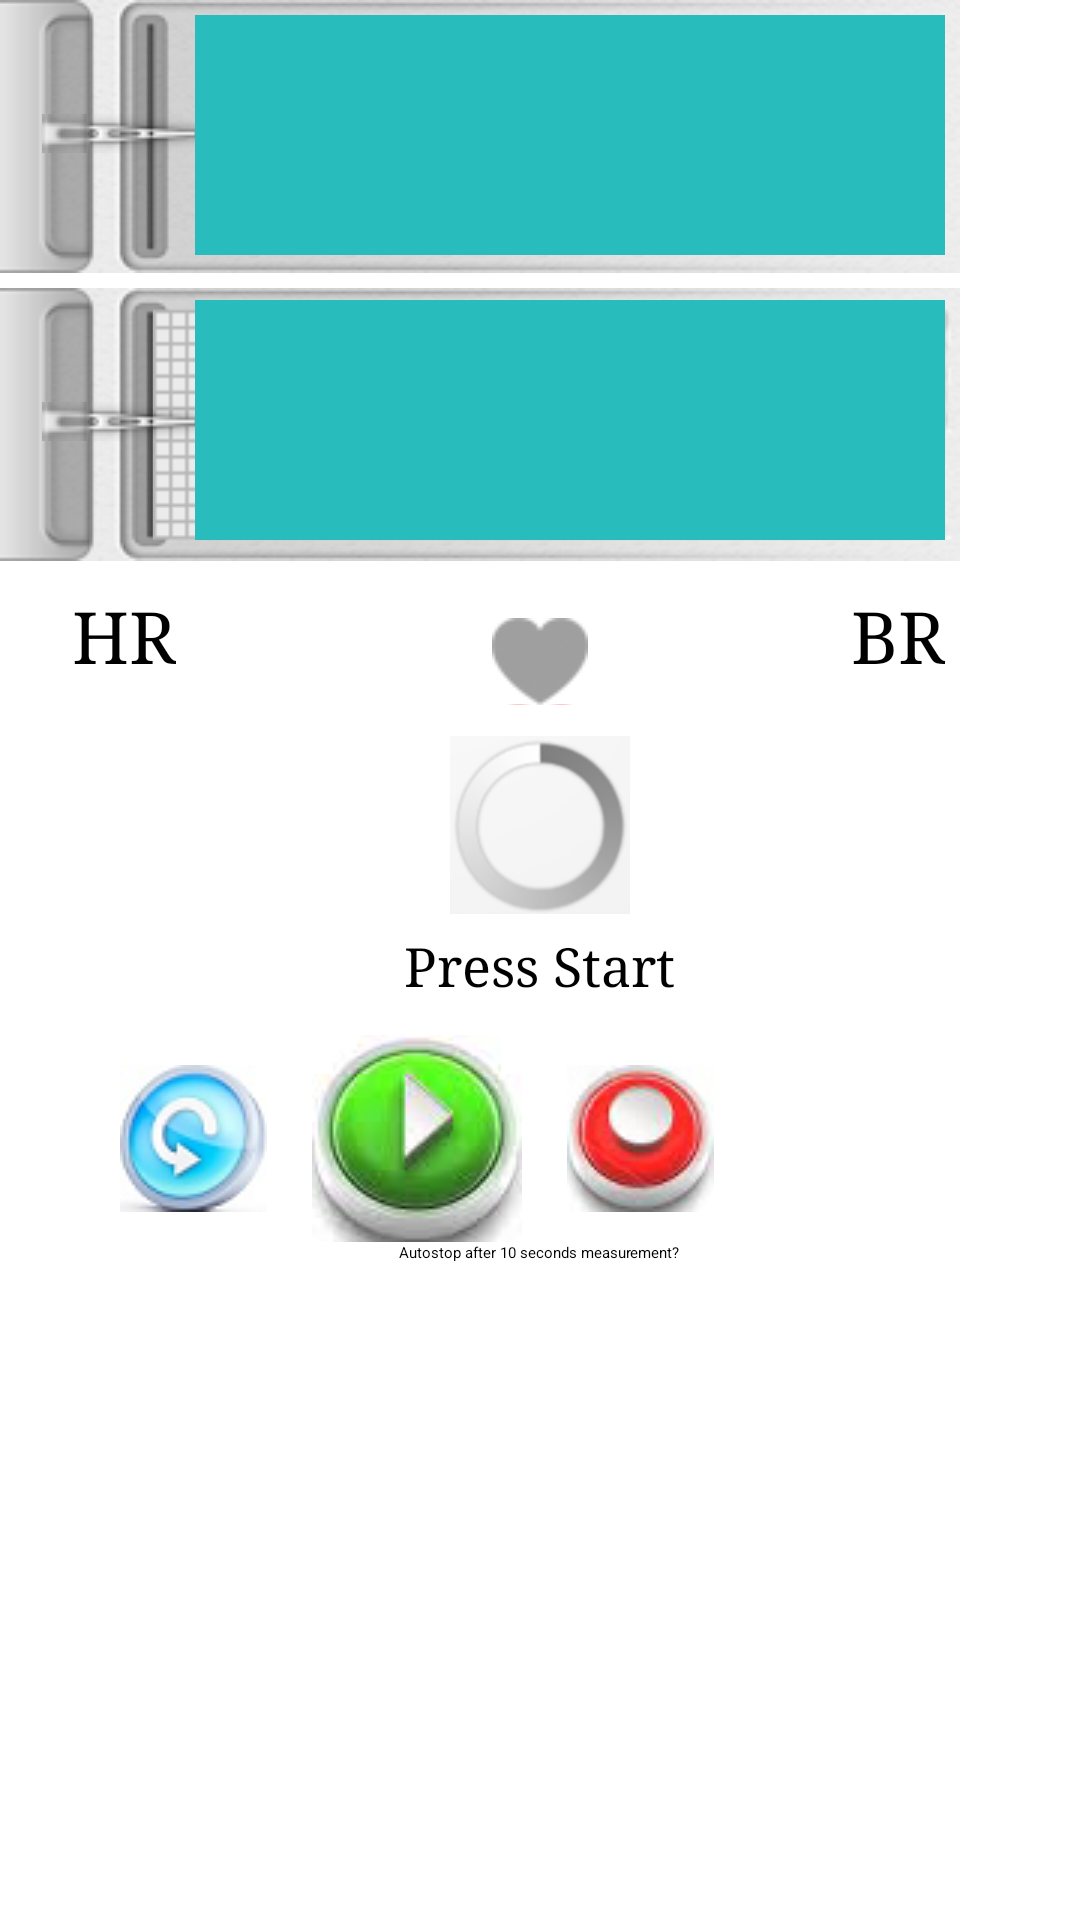

Icons on this 1080px×1920px Android screen, each with its box as (x1, y1, x2, y2):
beat: (492, 618, 588, 705)
progress still: (450, 736, 630, 914)
reset: (120, 1065, 265, 1212)
